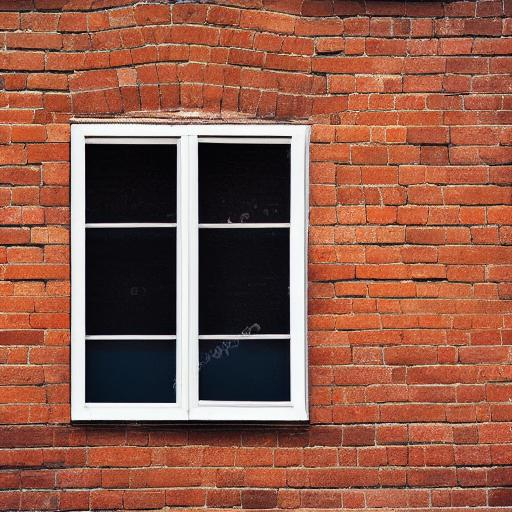Window: (68, 112, 311, 424)
